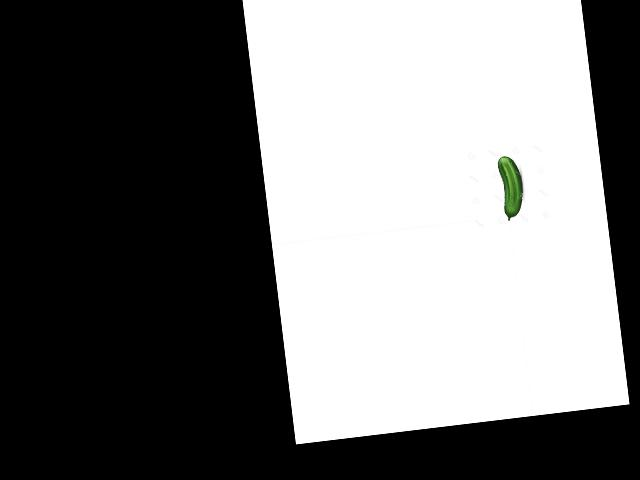cucumber: (497, 154, 526, 220)
